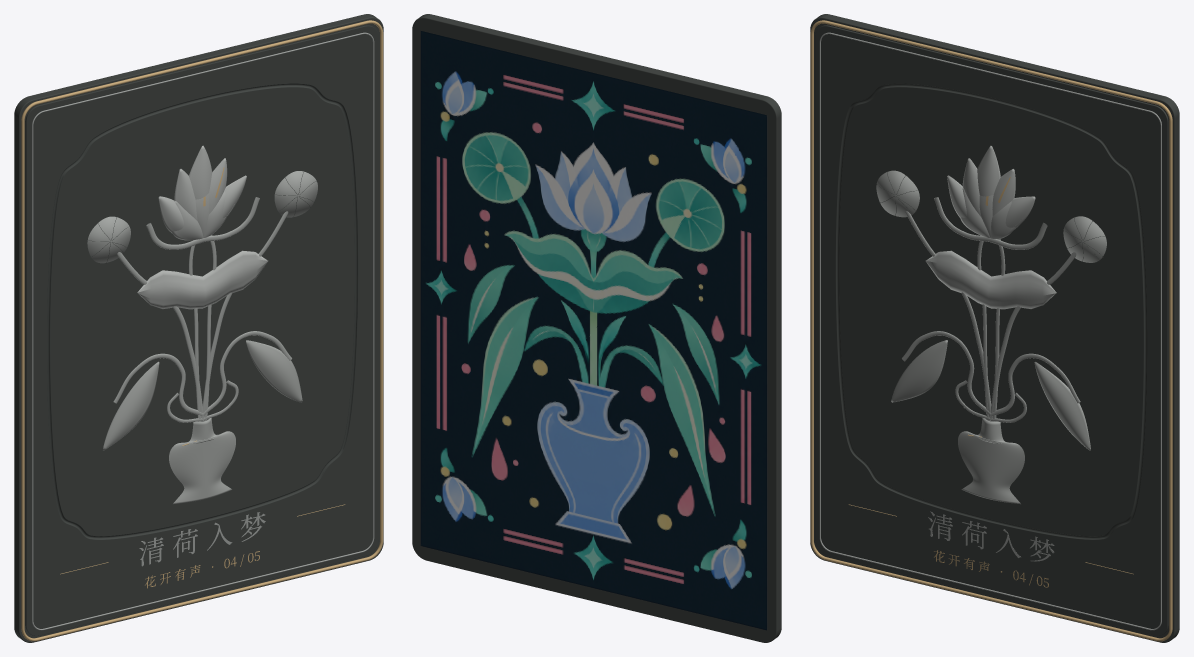
File: lotus-relief.glb
3 renders of one model, left to right at view 1: azimuth 30°, elevation 25°; view 2: azimuth 150°, elevation 25°; view 3: azimuth 330°, elevation 25°, orthographic.
Visible parts, largest first — view 1: 01 · Oxidized graphite bronze, 02 · Warm cast pewter, 05 · Satin silver petal, 03 · Champagne selective gilding; view 2: FRONT · unchanged original illustration, 01 · Oxidized graphite bronze; view 3: 01 · Oxidized graphite bronze, 02 · Warm cast pewter, 05 · Satin silver petal, 03 · Champagne selective gilding.
Boxes of the visible parts, x1,y1,x2,y2 form: 01 · Oxidized graphite bronze: (14,14,383,642); 02 · Warm cast pewter: (32,32,374,630); 05 · Satin silver petal: (137,145,268,309); 03 · Champagne selective gilding: (21,20,383,641); FRONT · unchanged original illustration: (420,31,767,630); 01 · Oxidized graphite bronze: (412,14,781,642); 01 · Oxidized graphite bronze: (810,14,1179,642); 02 · Warm cast pewter: (819,32,1161,630); 05 · Satin silver petal: (925,145,1056,309); 03 · Champagne selective gilding: (810,20,1172,641).
Size of the model in its own units: 0.064 by 0.091 by 0.00312.
5 materials, 1 textured.
